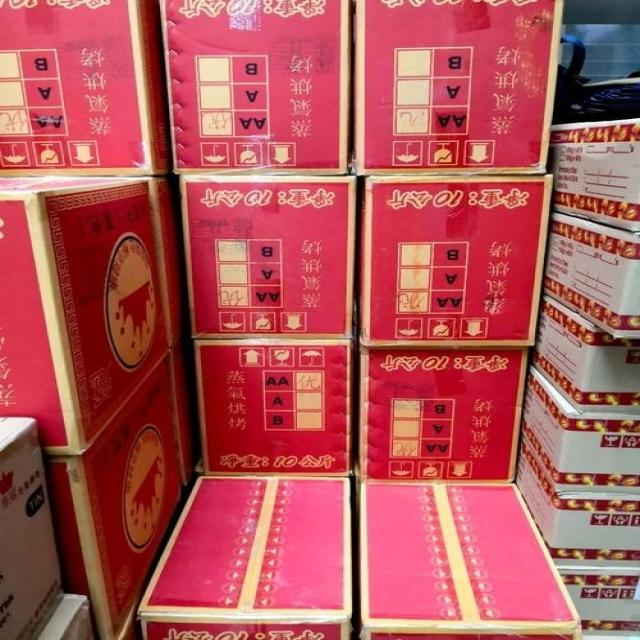box: (0, 177, 168, 456), (46, 352, 183, 639), (355, 0, 563, 174), (137, 476, 351, 639), (361, 482, 581, 639), (357, 174, 554, 346), (159, 1, 349, 174), (1, 0, 170, 177), (178, 174, 357, 337), (364, 346, 526, 480), (193, 339, 349, 475), (515, 440, 640, 566), (0, 416, 68, 639), (522, 367, 640, 492), (530, 296, 640, 411), (543, 211, 639, 338), (547, 118, 640, 231), (150, 178, 188, 343), (557, 568, 640, 635), (41, 596, 96, 640)
